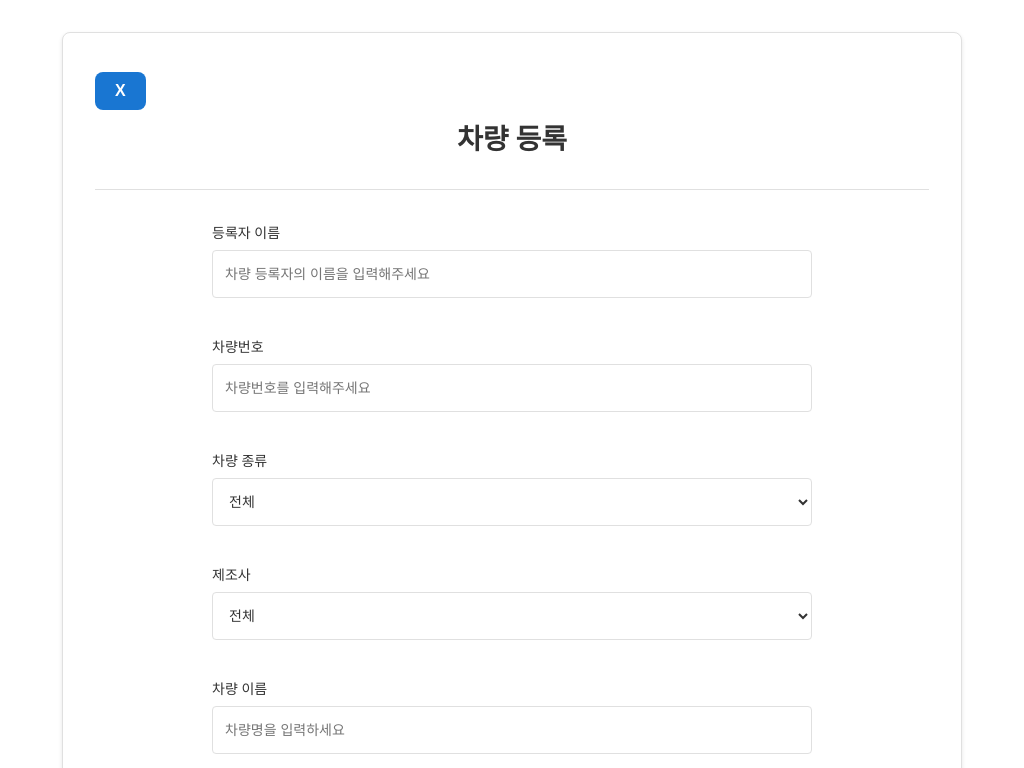
Test: Registration 컴포넌트 › 기타 제조사 선택 시 기타 입력 필드가 나타난다
The image size is (1024, 768).
Step 1. Select "기타" in the dropdown labelled "제조사" → [512, 616], box [212,592,812,640]
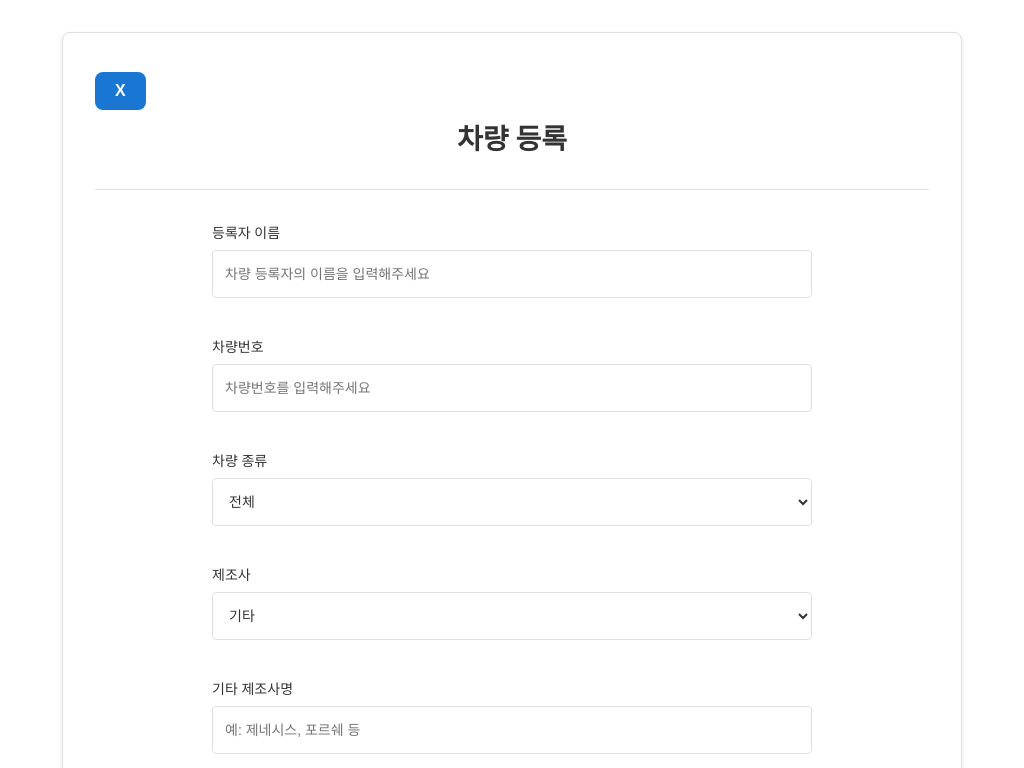
Now the field with placeholder "예: 제네시스, 포르쉐 등" is shown, box [212,706,812,754]
